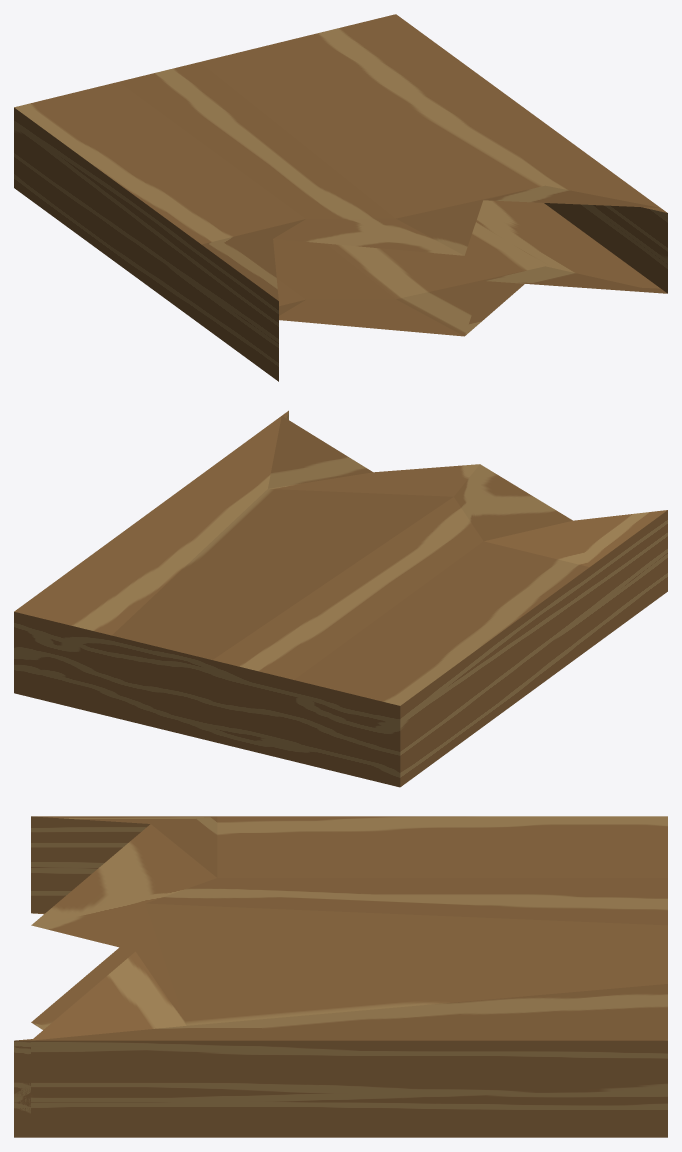
File: right-plank.glb
3 renders of one model, top to bottom at view 1: azimuth 30°, elevation 25°; view 2: azimuth 150°, elevation 25°; view 3: azimuth 270°, elevation 25°, orthographic. The views are drawn at different scales.
Visible parts, largest first — view 1: Cube.001; view 2: Cube.001; view 3: Cube.001.
Boxes of the visible parts, x1,y1,x2,y2 form: Cube.001: [14, 14, 667, 381]; Cube.001: [14, 410, 667, 787]; Cube.001: [14, 816, 667, 1137].
Size of the model in its own units: 2.61 by 0.7076 by 3.22.
Materials: 1 (1 with a texture image).
